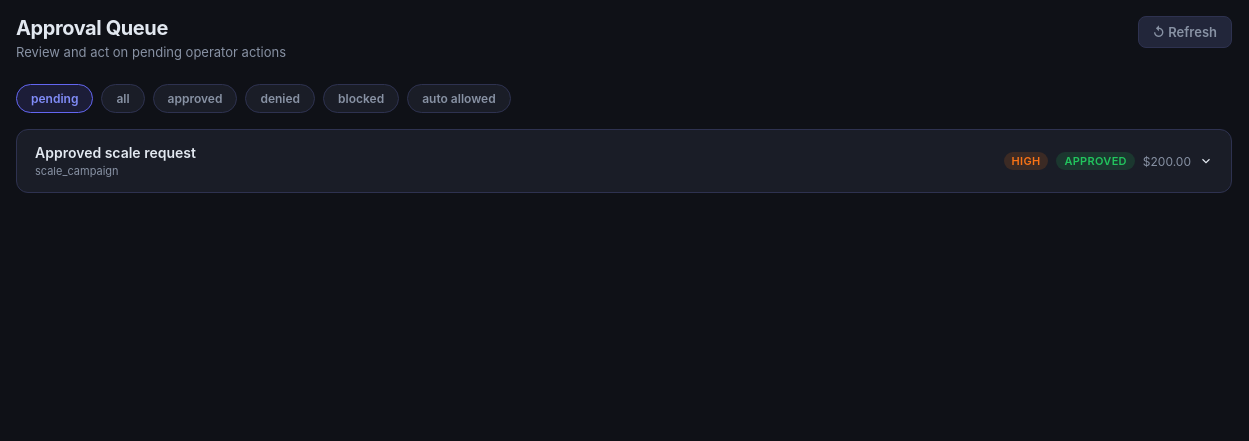
Scenario: ApprovalQueue gate UI › surfaces already_executed reason after repeat dry-run execute
This screenshot has width=1249, height=441.
What coordinates should you click on to do the following:
click the text "Approved scale request"
I would click on:
 (115, 152)
Its box is [35,144,196,161].
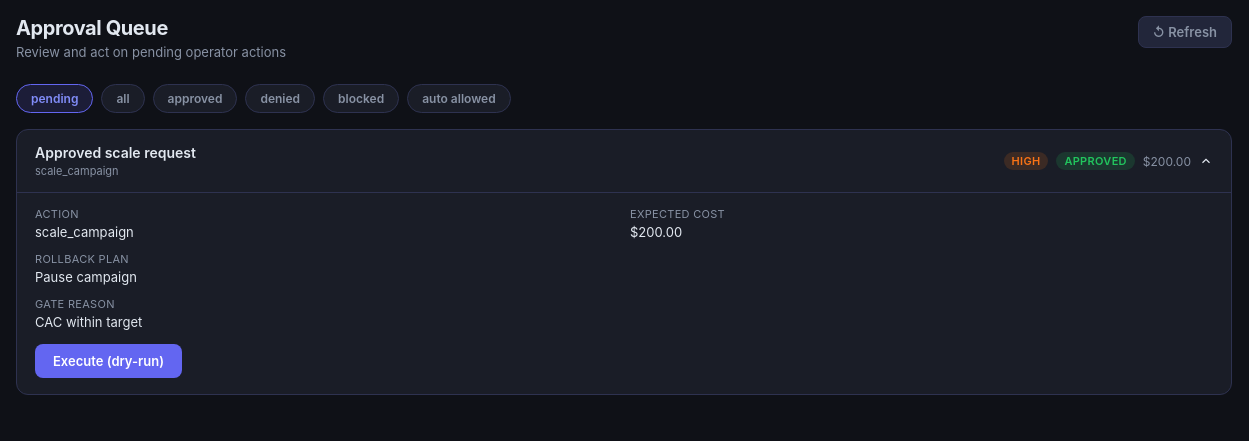
What coordinates should you click on to do the following:
click the button "Execute (dry-run)"
I would click on:
 (108, 361)
Its box is [35,344,182,378].
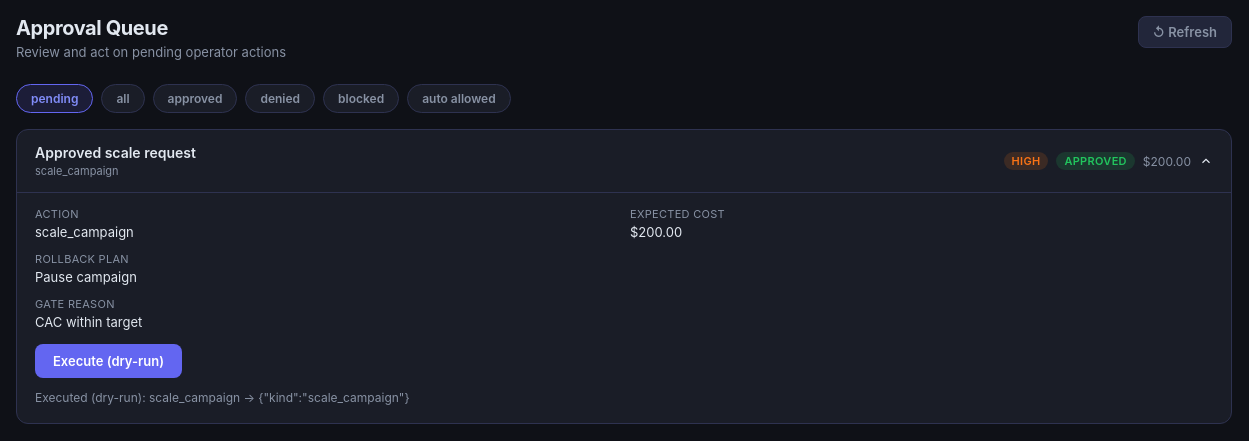
Expected: the text "Executed (dry-run)" is shown, [35,390,410,405]
What coordinates should you click on to do the following:
click the button "Execute (dry-run)"
I would click on:
 (108, 361)
Its box is [35,344,182,378].
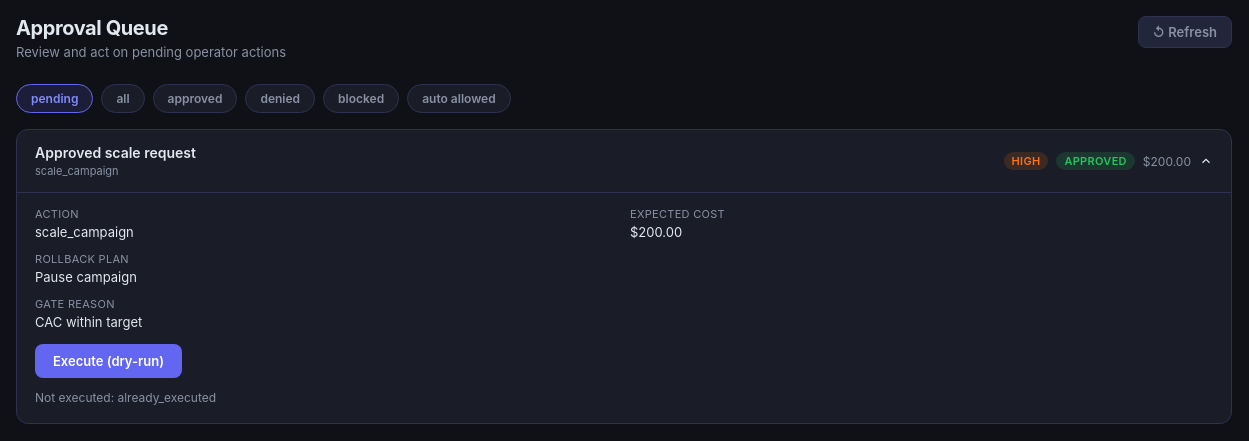
Expected: the text "Not executed: already_executed" is shown, [35,390,216,405]
